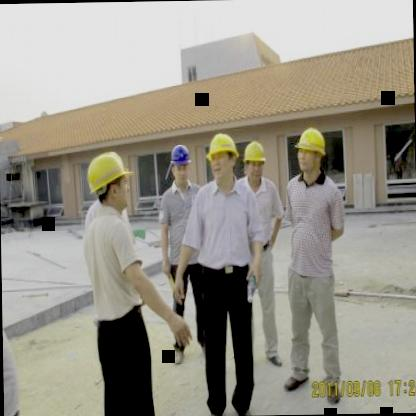helmet: (84, 146, 134, 212), (207, 128, 238, 186), (296, 124, 327, 176), (239, 138, 266, 185), (168, 141, 193, 186)
